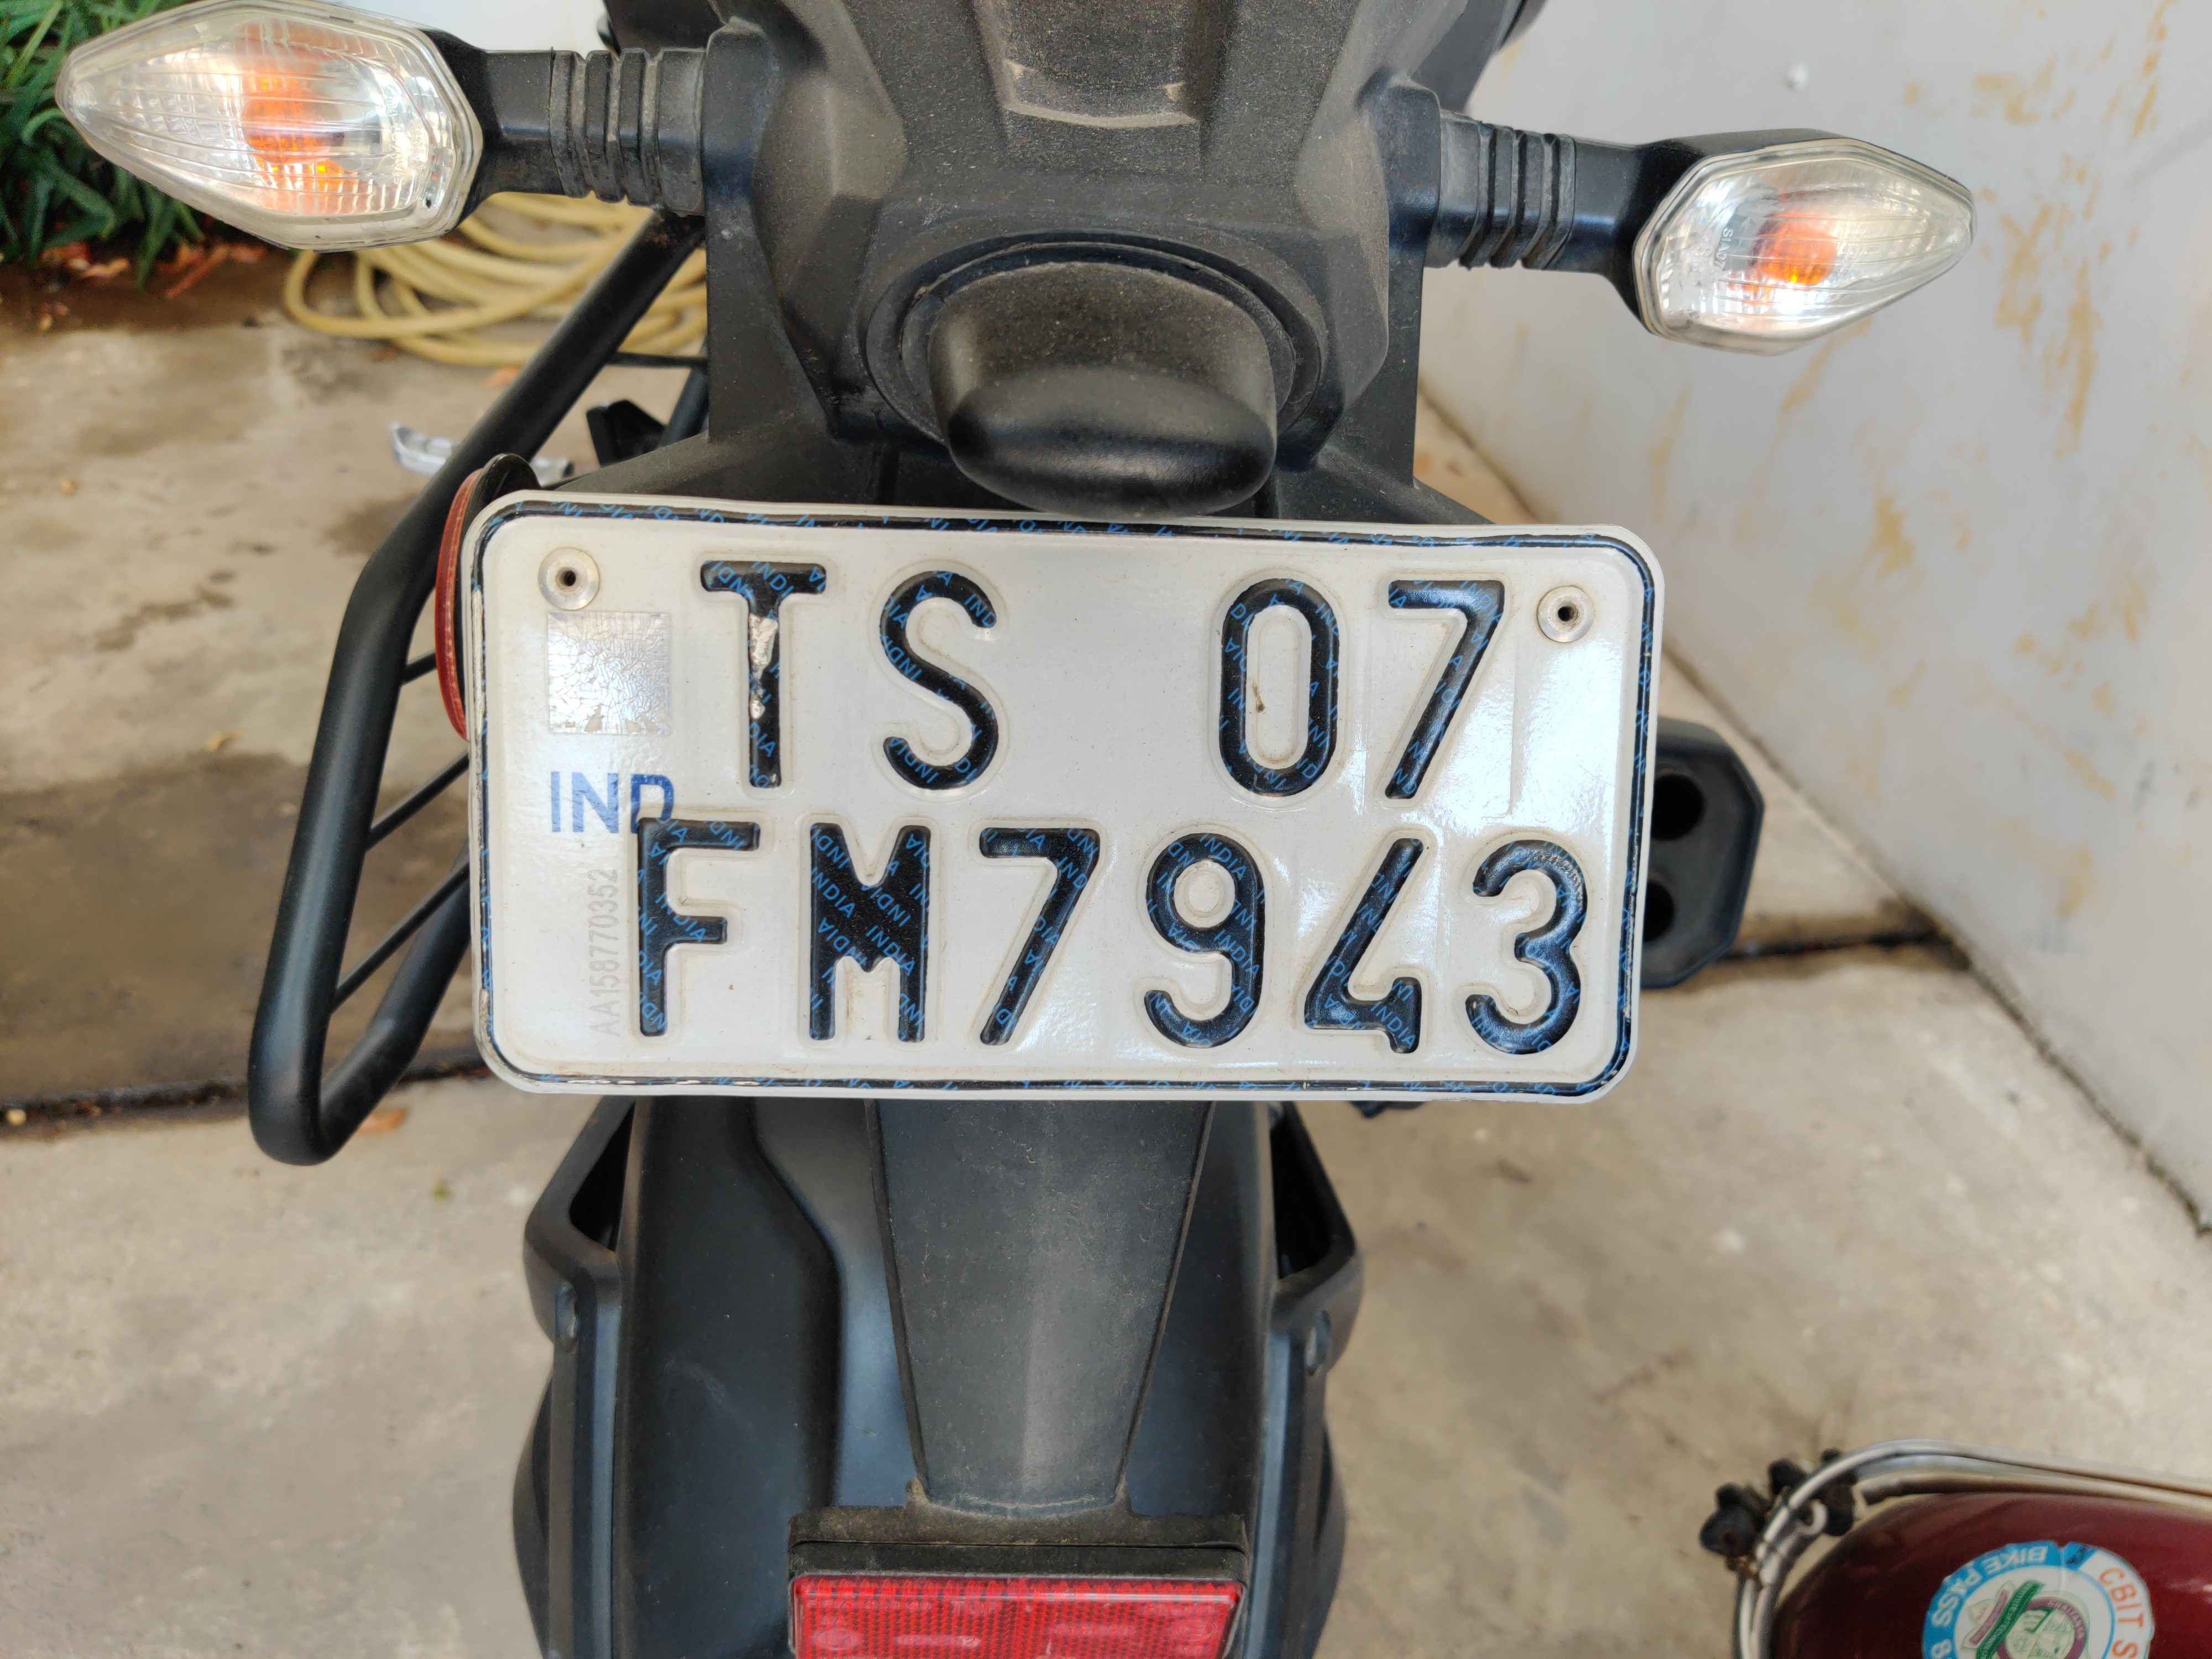plate: (433, 477, 1677, 1149)
